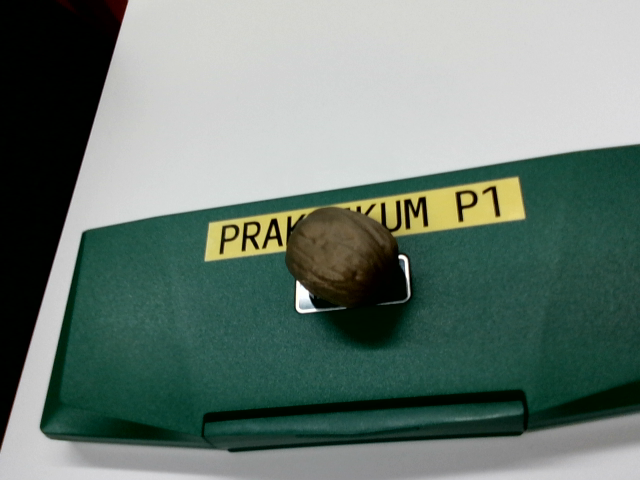walnut: (271, 189, 411, 323)
